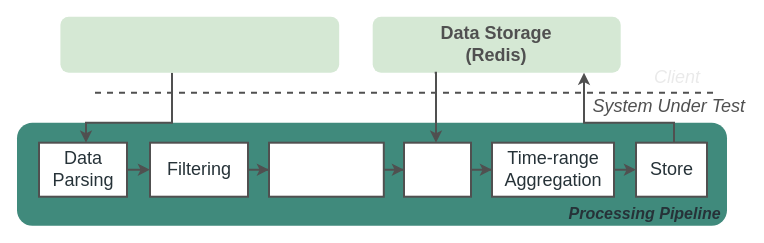
Some shapes in this 764 by 243 pixel diagram are drawn without their labels. The shapes that lost their labels are listed below. From the top down, each one's box as (x1, y1, x2, y2) in pixels, then its label:
(60, 16, 339, 72): Message Queue (Apache Kafka)
(268, 141, 384, 197): Projection
(402, 141, 472, 197): Join
